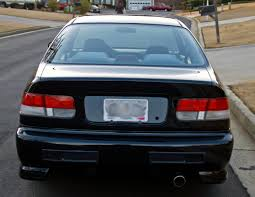car: (15, 14, 235, 190)
